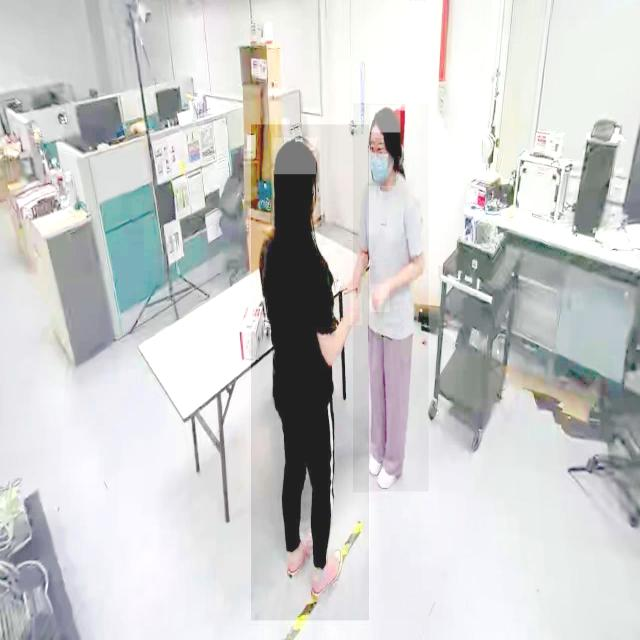face_mask: (368, 138, 396, 186)
hand_noglove: (370, 283, 390, 313), (341, 272, 362, 297), (350, 294, 362, 326)
head_nohelmet: (274, 138, 316, 175), (370, 106, 400, 133)
person: (251, 124, 369, 622), (353, 103, 429, 493)
shoes: (282, 520, 324, 584), (308, 542, 345, 598), (377, 448, 405, 491), (363, 432, 387, 478)
